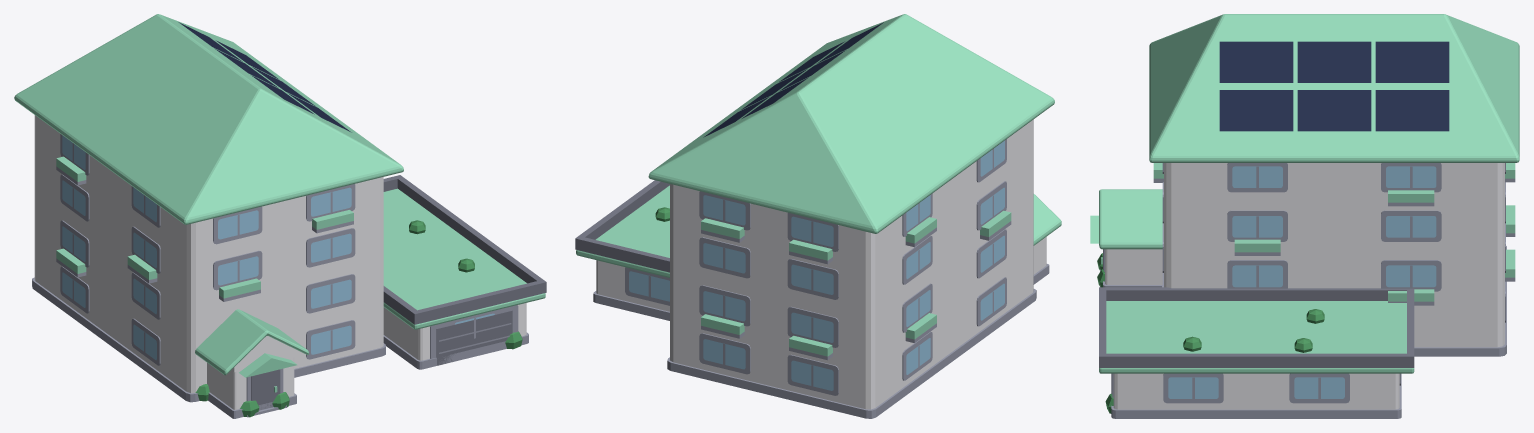
File: house-2x2-4f-mansard-a-solar.glb
3 views of the same model, side by side, from view 1: azimuth 30°, elevation 25°; view 2: azimuth 150°, elevation 25°; view 3: azimuth 270°, elevation 25° (orthographic). The views are drawn at different scales.
Visible parts, largest first — view 1: house-2x2-4f-mansard-a-solar; view 2: house-2x2-4f-mansard-a-solar; view 3: house-2x2-4f-mansard-a-solar.
Boxes of the visible parts, x1,y1,x2,y2 form: house-2x2-4f-mansard-a-solar: (14, 14, 546, 418); house-2x2-4f-mansard-a-solar: (575, 14, 1061, 418); house-2x2-4f-mansard-a-solar: (1090, 14, 1519, 418).
Bounding box in the file's own units: 2 × 1.52 × 2.04.
Materials: 1 (1 with a texture image).
